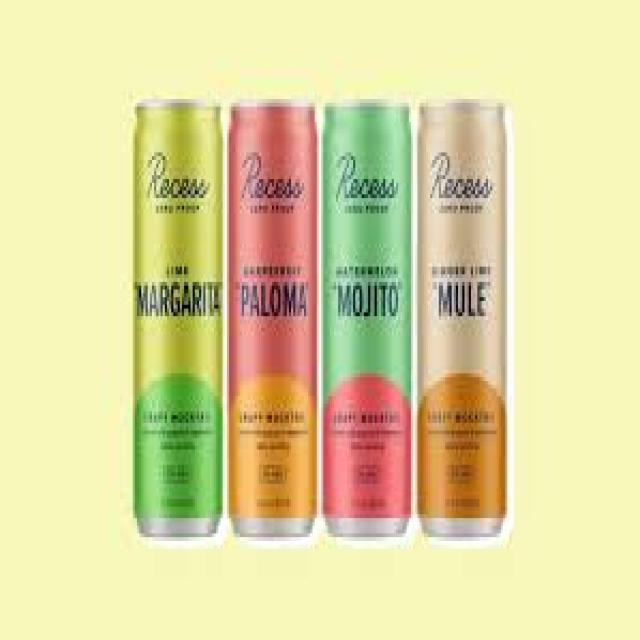Cans: (124, 84, 229, 556), (315, 91, 415, 548), (417, 88, 516, 548), (225, 84, 321, 556)
